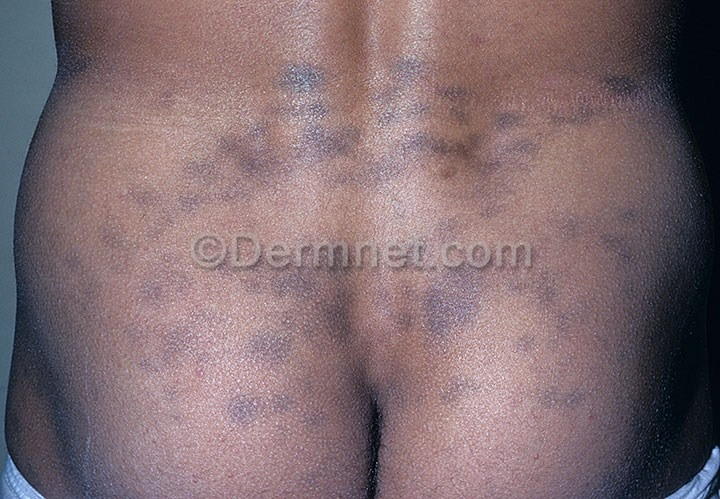Melasma: (507, 19, 720, 79)
